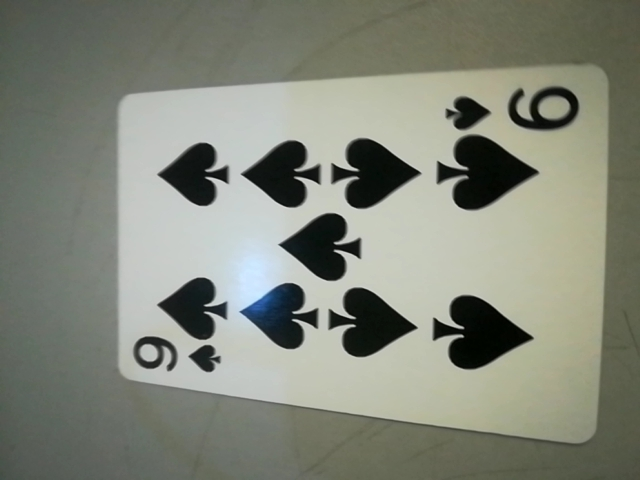ht 9: (443, 80, 599, 140)
